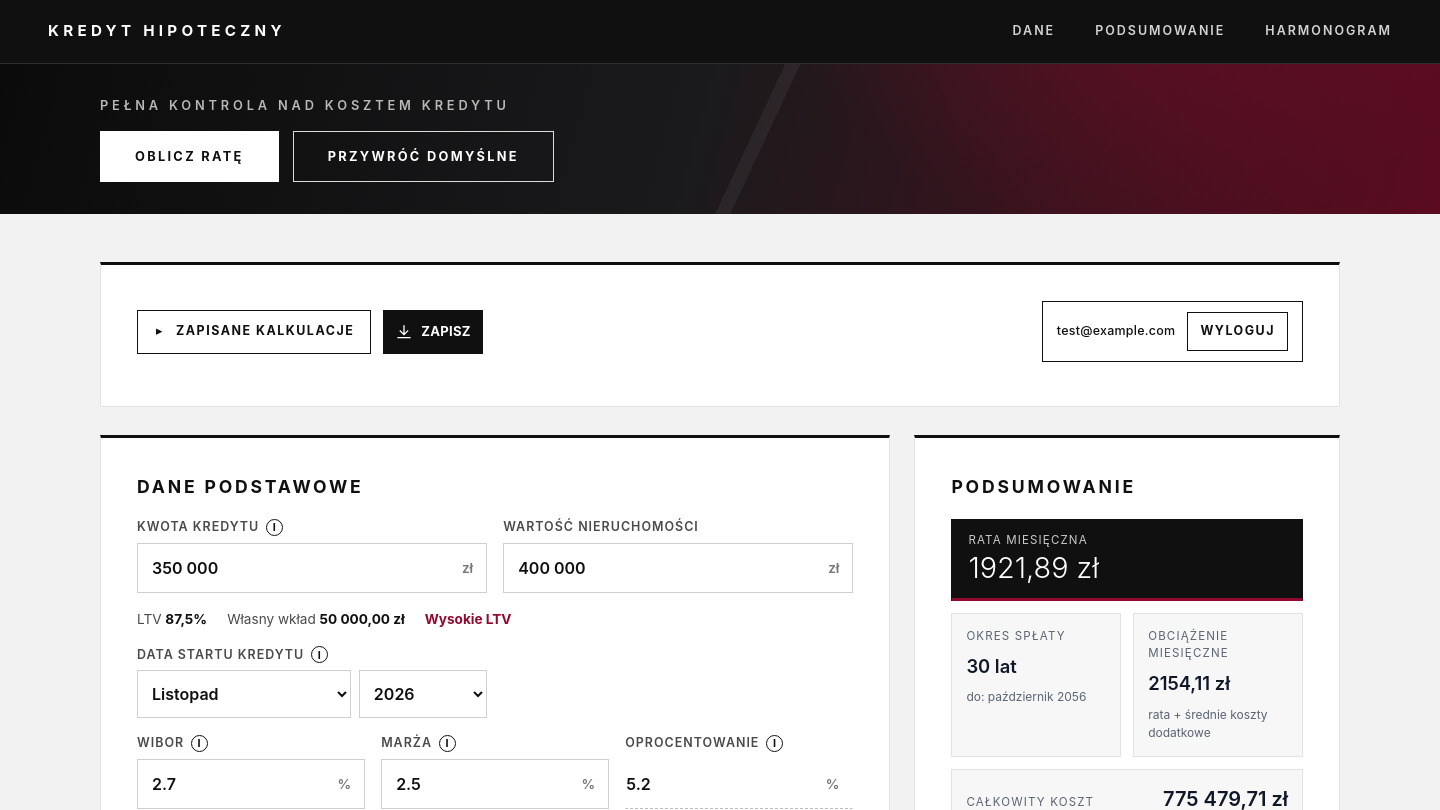
save button behavior › tells the user when a saved calculation cannot be read
The width and height of the screenshot is (1440, 810).
Click the button "▸ Zapisane kalkulacje" at (254,332), box [137,310,371,354]
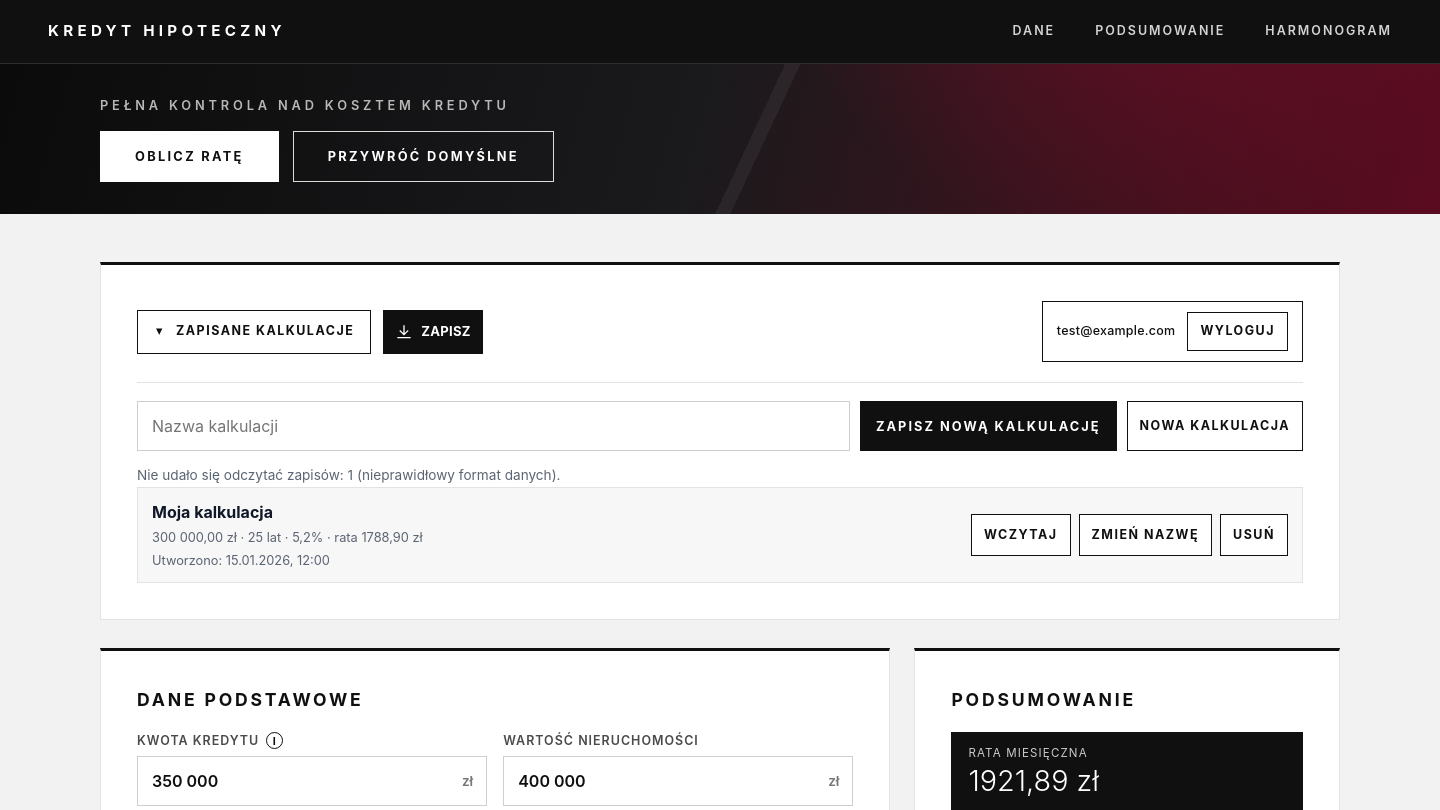
Check: the field with placeholder "Nazwa kalkulacji" is shown, box [137,401,850,451]
Check: the text "Nie udało się odczytać zapisów: 1" is shown, box [137,467,560,483]
Check: the number of buttons "Wczytaj" is 1, box [971,514,1071,556]
